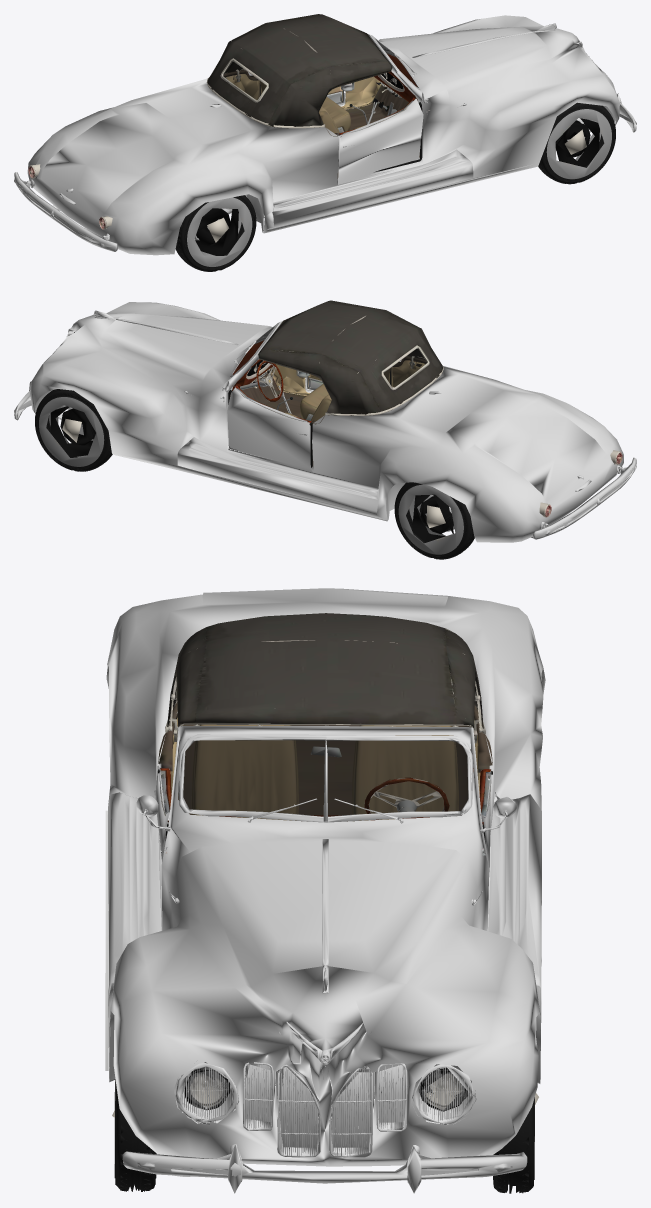
File: zis.glb
3 views of the same model, one above another, from view 1: azimuth 30°, elevation 25°; view 2: azimuth 150°, elevation 25°; view 3: azimuth 270°, elevation 25° (orthographic). The views are drawn at different scales.
Visible parts, largest first — view 1: body, spin_FR, spin_RR; view 2: body, spin_FL, spin_RL; view 3: body, spin_FR, spin_FL.
Part boxes in pixels (x1,y1,x2,y2): body: (14, 14, 636, 255); spin_FR: (538, 102, 615, 184); spin_RR: (175, 195, 256, 271); body: (14, 300, 636, 542); spin_FL: (35, 389, 112, 471); spin_RL: (394, 482, 474, 559); body: (105, 588, 545, 1193); spin_FR: (112, 1077, 156, 1191); spin_FL: (493, 1093, 538, 1193).
Bounding box in the file's own units: 5.4 × 1.53 × 1.87.
15 materials, 7 textured.
